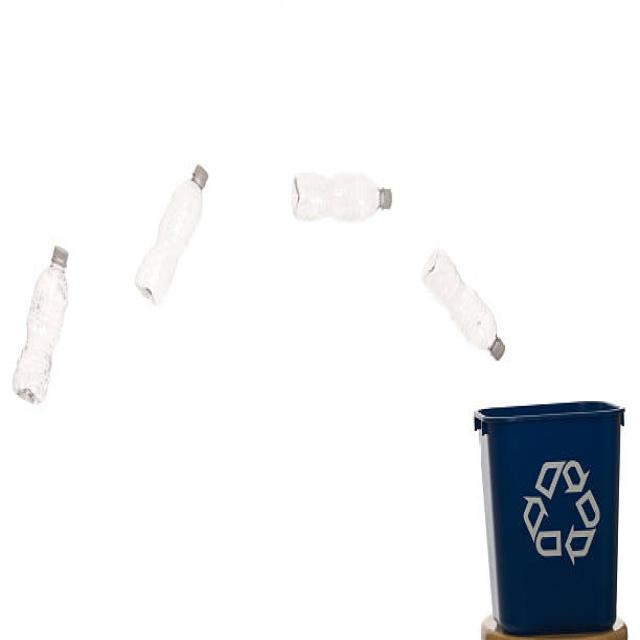plastic: (134, 145, 216, 317), (416, 228, 507, 379), (6, 240, 80, 412), (286, 159, 398, 244)
